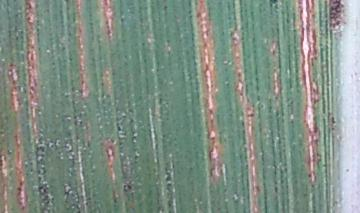tarspot: (120, 180, 137, 197)
